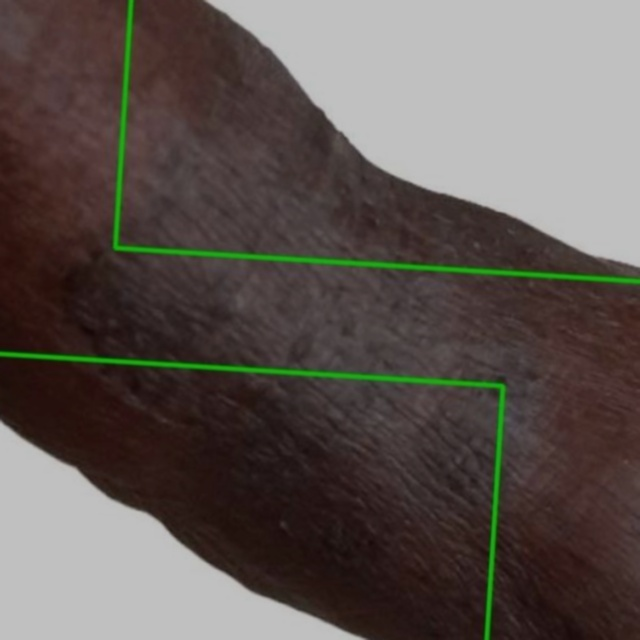Eczema: (115, 0, 639, 281), (0, 355, 502, 639)
